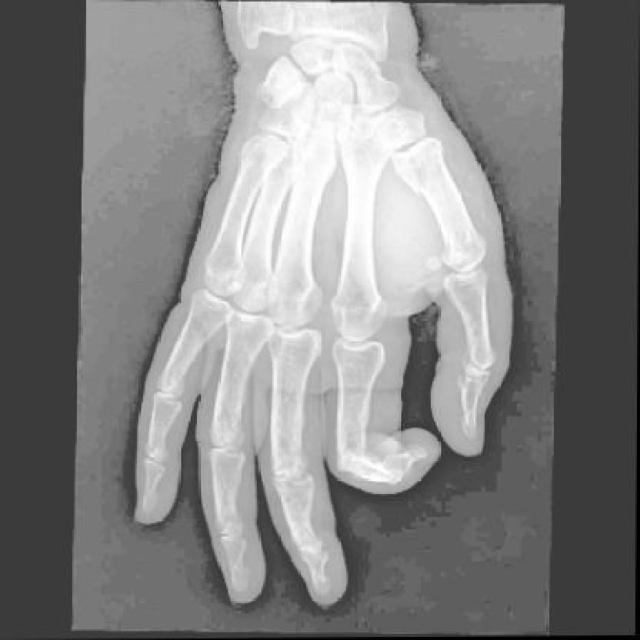Fracture: (391, 154, 428, 198)
